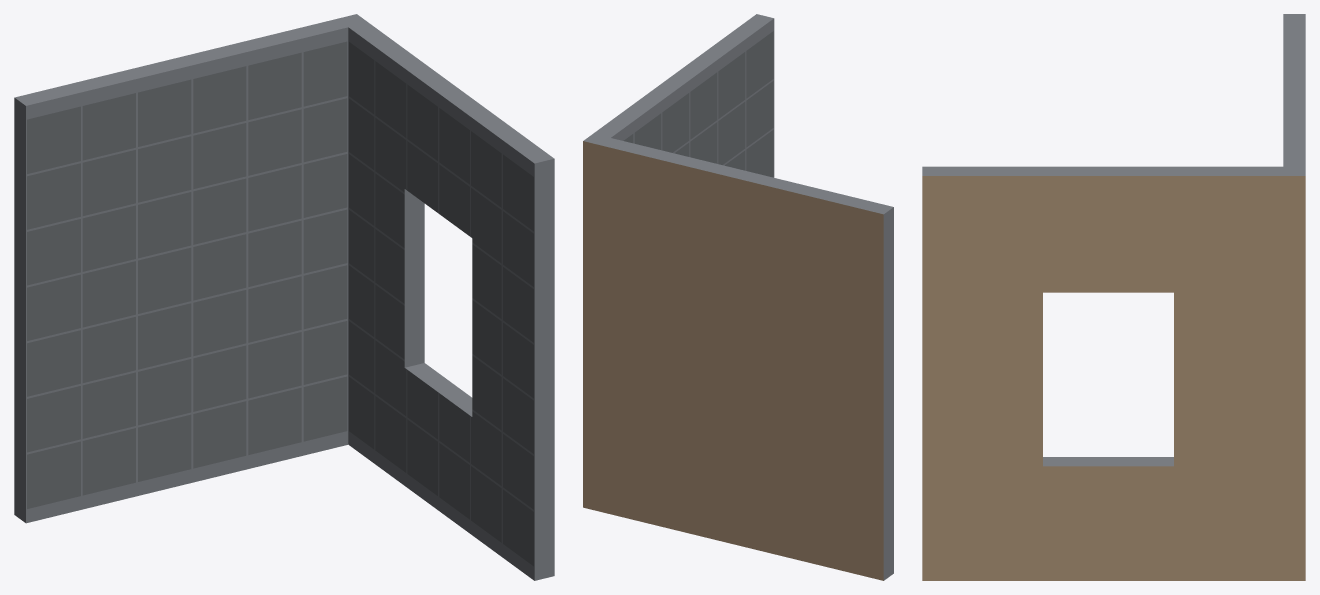
Rendered from Wall2_C7_08.fbx.
The picture shows the model from 3 angles, left to right: view 1: azimuth 30°, elevation 25°; view 2: azimuth 150°, elevation 25°; view 3: azimuth 270°, elevation 25°; orthographic projection. The views are drawn at different scales.
Visible parts, largest first — view 1: Wall2_C7_08; view 2: Wall2_C7_08; view 3: Wall2_C7_08.
Boxes of the visible parts, left/top/right/bottom form: Wall2_C7_08: left=14, top=14, right=554, bottom=580; Wall2_C7_08: left=583, top=14, right=893, bottom=580; Wall2_C7_08: left=922, top=14, right=1305, bottom=580.
Size of the model in its own units: 258 by 300 by 258.
